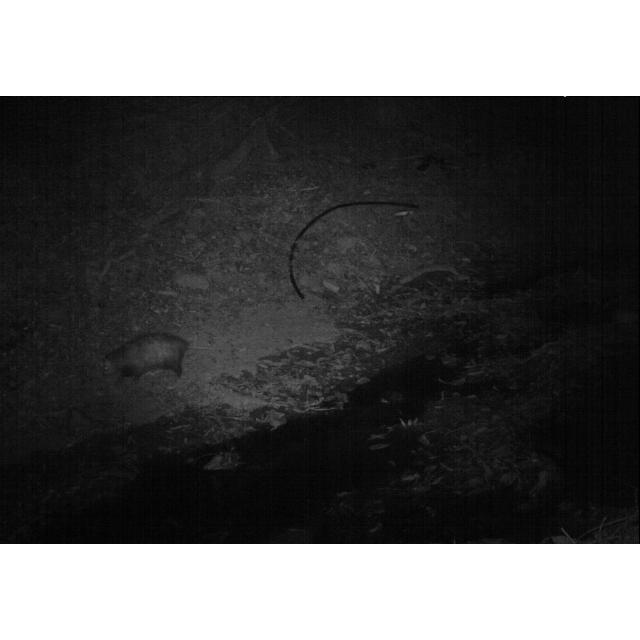animals: (97, 330, 193, 390)
